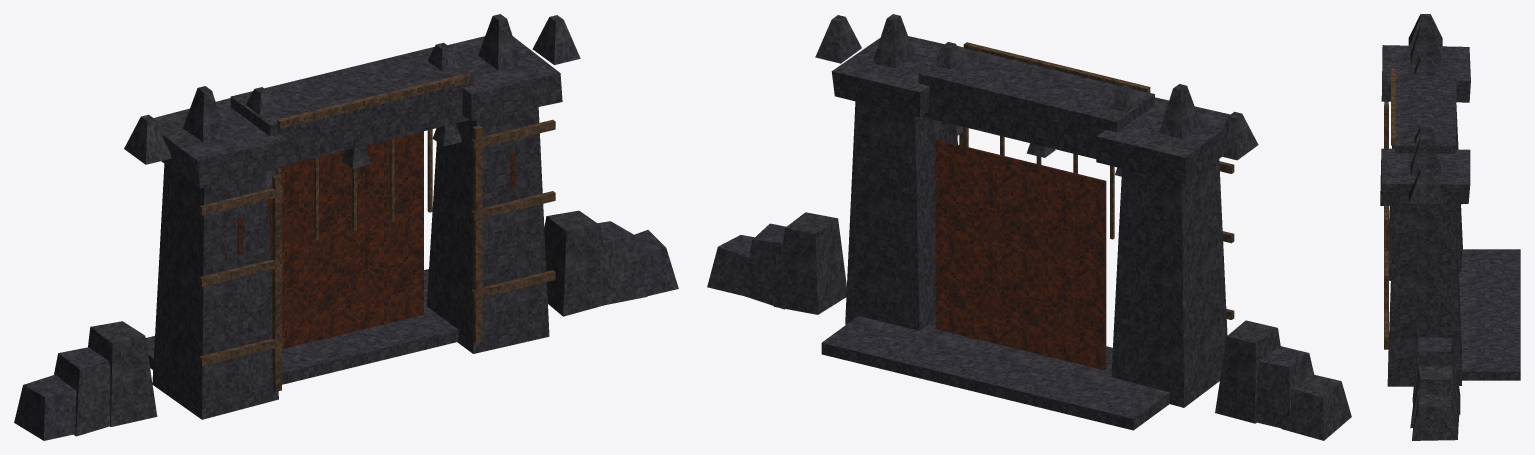
The model's file is gate.glb.
3 renders of one model, left to right at view 1: azimuth 30°, elevation 25°; view 2: azimuth 150°, elevation 25°; view 3: azimuth 270°, elevation 25°, orthographic. The views are drawn at different scales.
Parts seen in each view (by area): view 1: gate; view 2: gate; view 3: gate.
Part boxes in pixels (<box>): gate: <box>14,14,678,440</box>; gate: <box>707,14,1351,440</box>; gate: <box>1380,14,1520,440</box>.
Bounding box in the file's own units: 16.81 × 7.77 × 4.14.
Materials: 3 (3 with a texture image).
